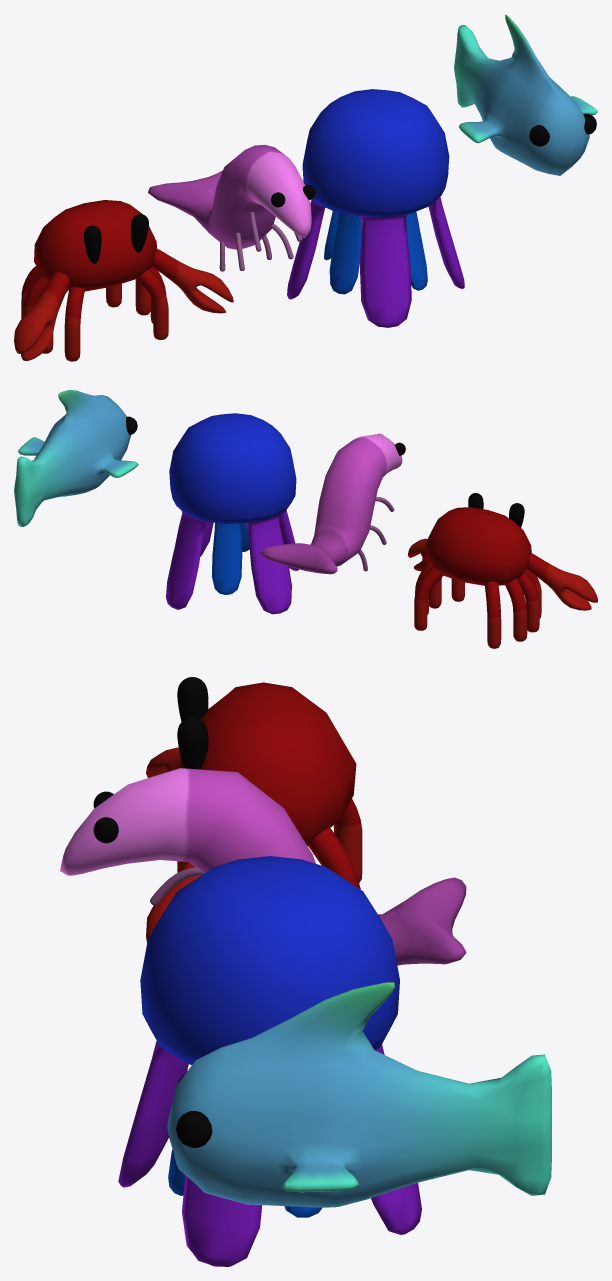
File: Extra Food.fbx
3 views of the same model, one above another, from view 1: azimuth 30°, elevation 25°; view 2: azimuth 150°, elevation 25°; view 3: azimuth 270°, elevation 25° (orthographic). The views are drawn at different scales.
Parts seen in each view (by area): view 1: Jellyfish, Crab, Fish, Shrimp; view 2: Jellyfish, Crab, Fish, Shrimp; view 3: Fish, Jellyfish, Shrimp, Crab.
Part boxes in pixels (bbox=[...]): Jellyfish: bbox=[287, 89, 464, 327]; Crab: bbox=[14, 200, 233, 361]; Fish: bbox=[454, 14, 597, 175]; Shrimp: bbox=[148, 144, 315, 271]; Jellyfish: bbox=[166, 413, 298, 614]; Crab: bbox=[407, 493, 597, 648]; Fish: bbox=[14, 390, 138, 526]; Shrimp: bbox=[260, 433, 405, 574]; Fish: bbox=[167, 982, 551, 1207]; Jellyfish: bbox=[118, 856, 421, 1266]; Shrimp: bbox=[60, 768, 466, 965]; Crab: bbox=[146, 677, 362, 942].
Bounding box in the file's own units: 141 × 45.96 × 56.24.
Materials: 6 (4 with a texture image).
